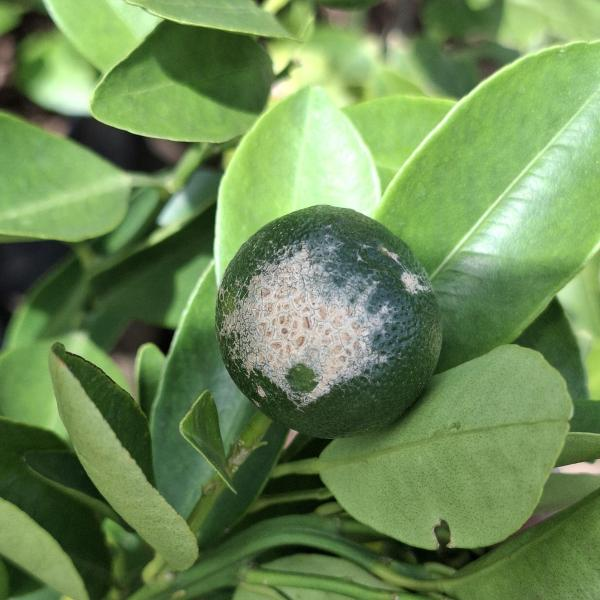Scab: (205, 204, 454, 442)
